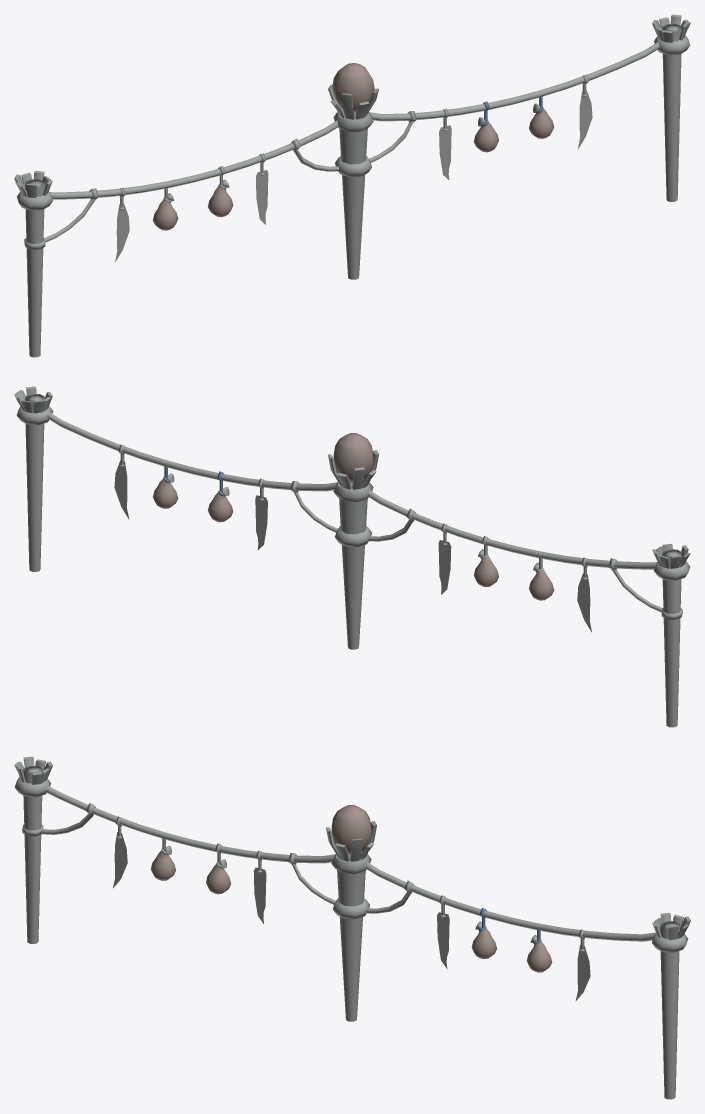
3 views of the same model, one above another, from view 1: azimuth 30°, elevation 25°; view 2: azimuth 150°, elevation 25°; view 3: azimuth 330°, elevation 25° (orthographic).
Parts seen in each view (by area): view 1: G:\FFXIV-MapTools\exports\y6f2\bg\ex5\02_ykt_y6\fld\y6f2\bgp (×5); view 2: G:\FFXIV-MapTools\exports\y6f2\bg\ex5\02_ykt_y6\fld\y6f2\bgp (×5); view 3: G:\FFXIV-MapTools\exports\y6f2\bg\ex5\02_ykt_y6\fld\y6f2\bgp (×5).
Part boxes in pixels (bbox=[...]): G:\FFXIV-MapTools\exports\y6f2\bg\ex5\02_ykt_y6\fld\y6f2\bgp (×5): bbox=[14, 14, 690, 357]; G:\FFXIV-MapTools\exports\y6f2\bg\ex5\02_ykt_y6\fld\y6f2\bgp (×5): bbox=[14, 386, 690, 727]; G:\FFXIV-MapTools\exports\y6f2\bg\ex5\02_ykt_y6\fld\y6f2\bgp (×5): bbox=[14, 756, 690, 1099].
Bounding box in the file's own units: 9.48 × 2.88 × 0.5955.
